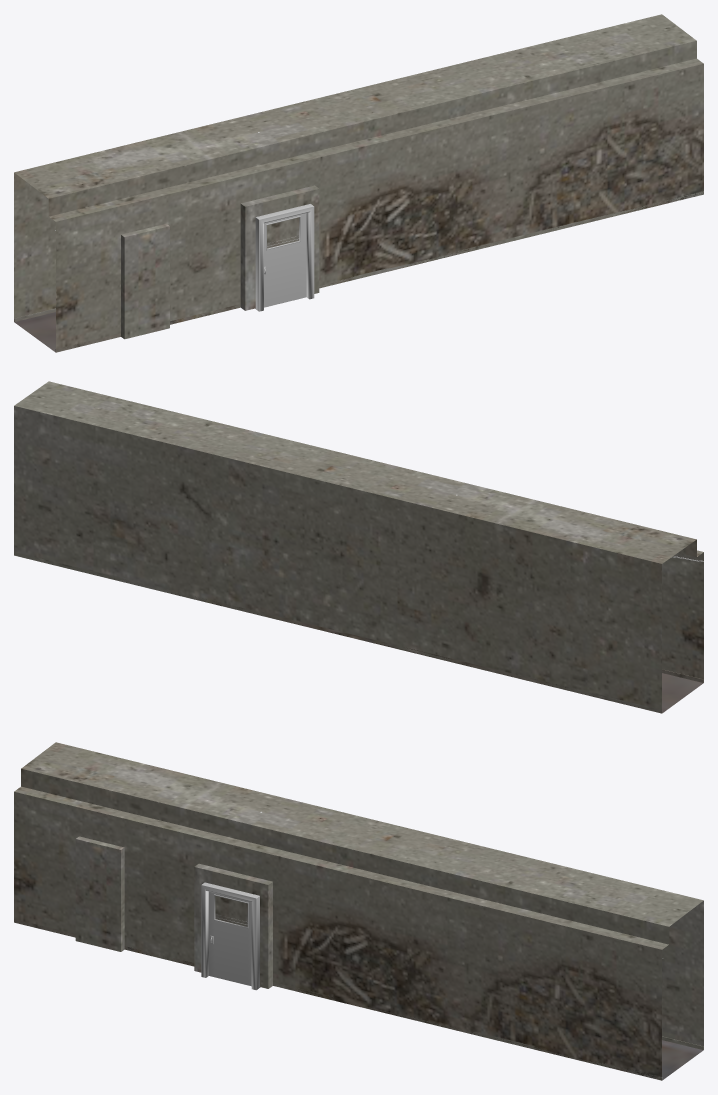
Rendered from corridor.fbx.
The picture shows the model from 3 angles, top to bottom: view 1: azimuth 30°, elevation 25°; view 2: azimuth 150°, elevation 25°; view 3: azimuth 330°, elevation 25°; orthographic projection.
Visible parts, largest first — view 1: Walls, Polygon.1_Untitled.001, WallBump, Door.001; view 2: Walls, WallBump; view 3: Walls, Polygon.1_Untitled.001, Door.001, WallBump.
Boxes of the visible parts, x1,y1,x2,y2 form: Walls: [14, 14, 703, 352]; Polygon.1_Untitled.001: [264, 213, 306, 307]; WallBump: [14, 191, 703, 352]; Door.001: [255, 204, 314, 311]; Walls: [14, 381, 703, 712]; WallBump: [14, 552, 703, 713]; Walls: [14, 742, 703, 1080]; Polygon.1_Untitled.001: [209, 891, 251, 986]; Door.001: [201, 882, 260, 990]; WallBump: [14, 919, 703, 1080].
Size of the model in its own units: 3598 by 798 by 480.
